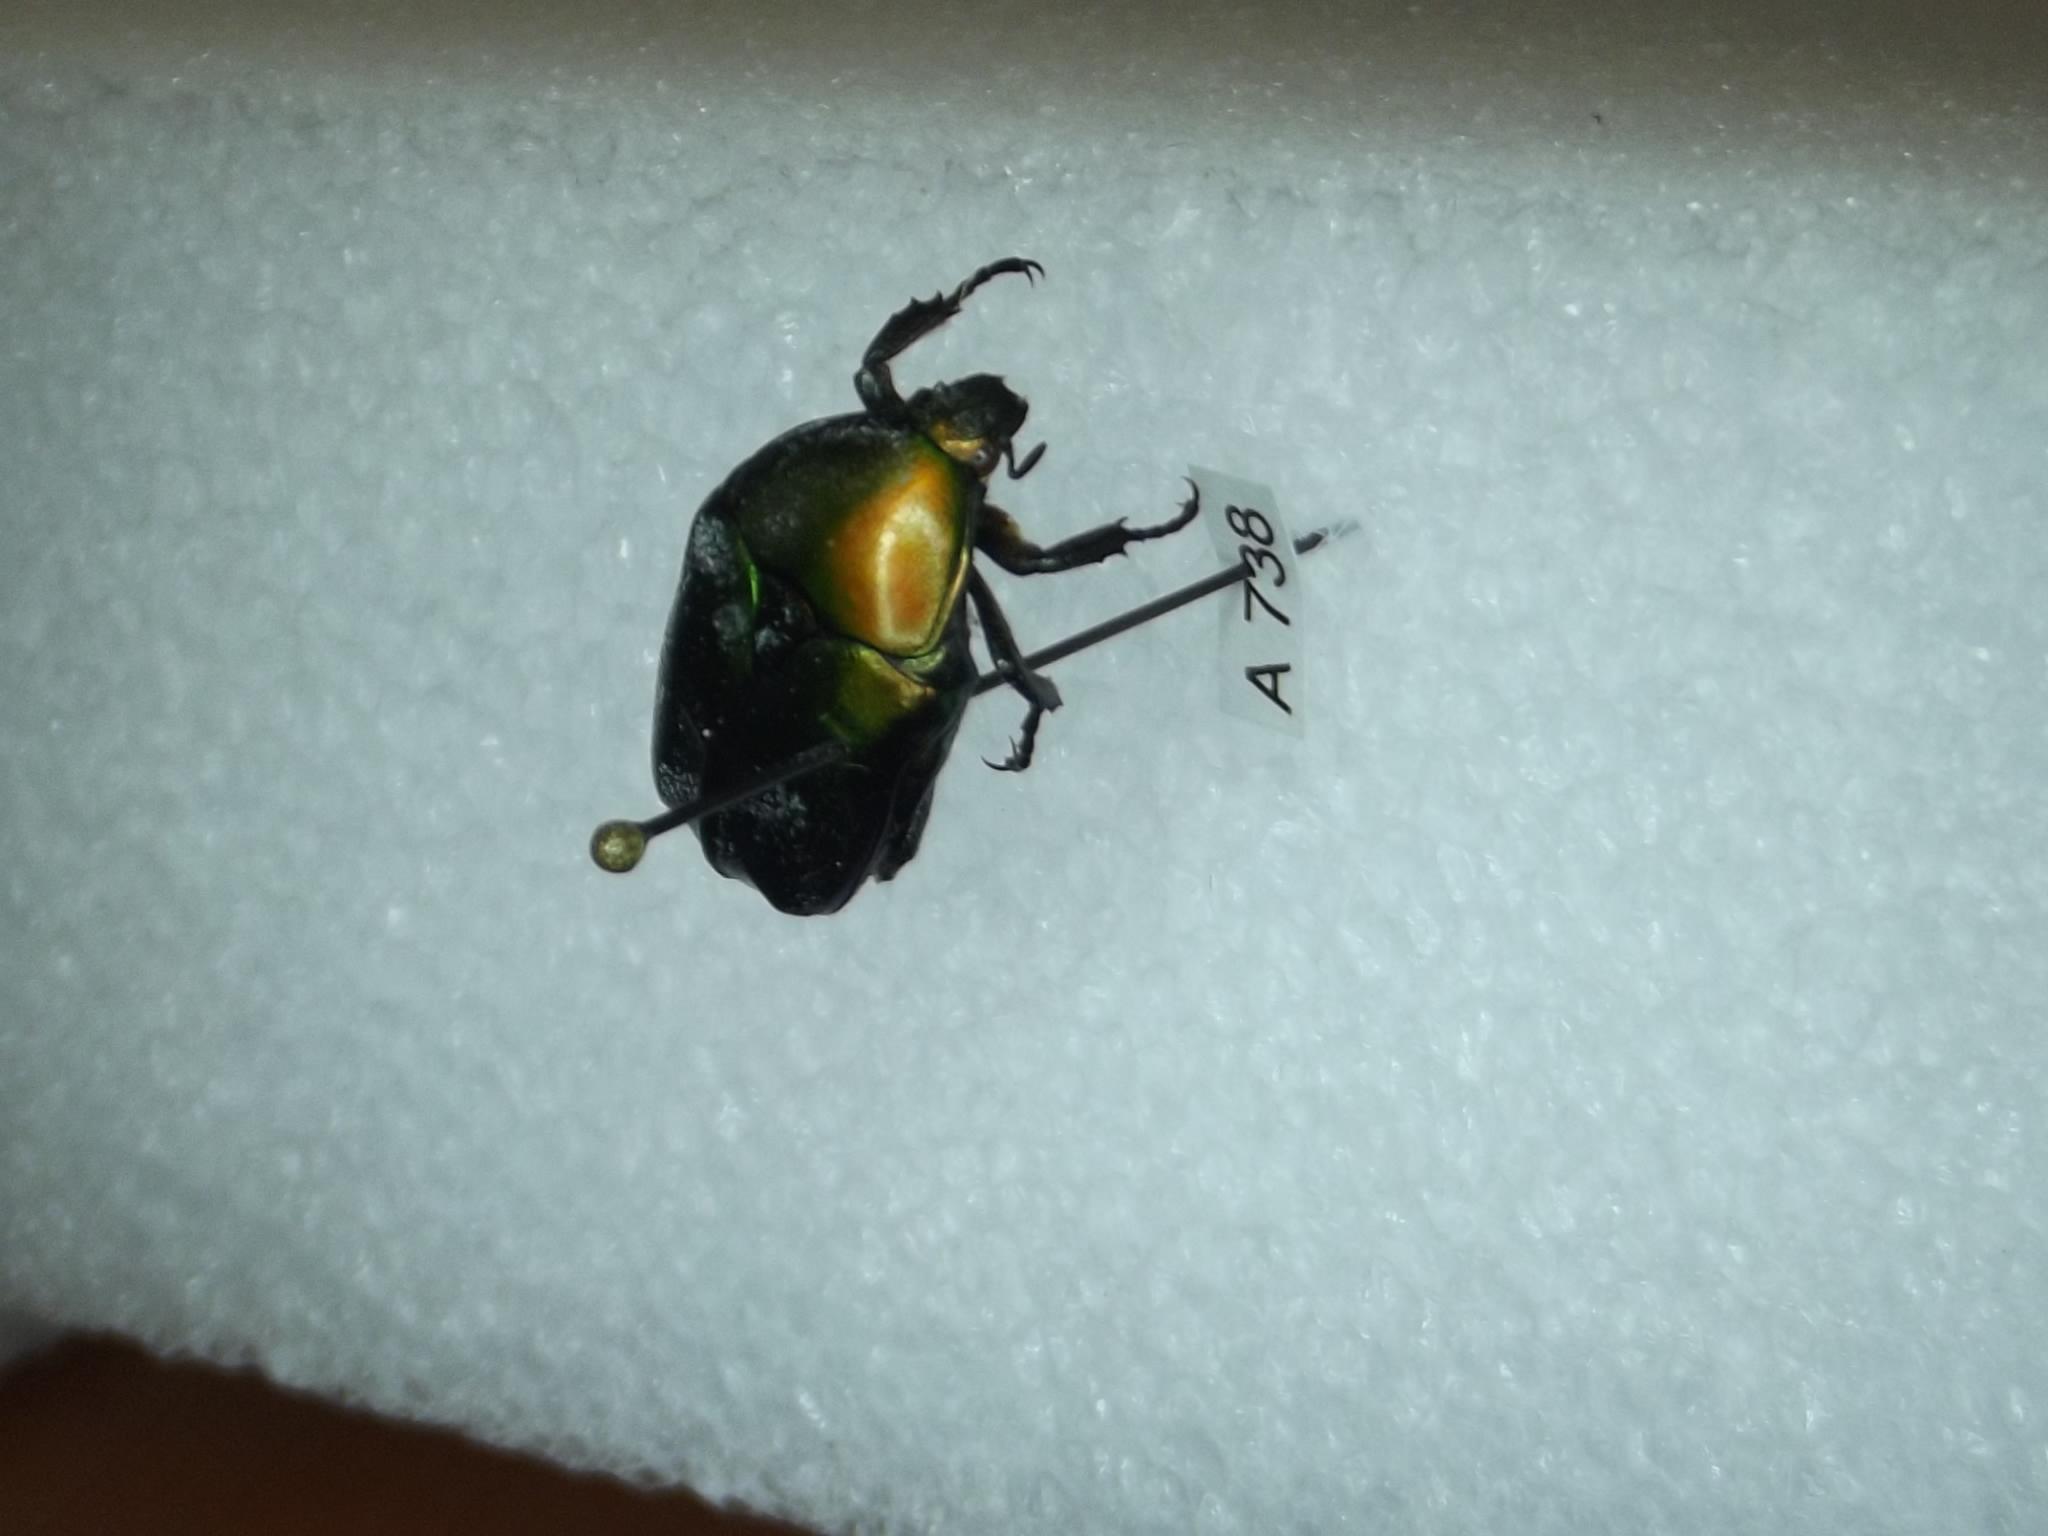Protaetia_cuprea_ignicollis: (603, 239, 1218, 928)
